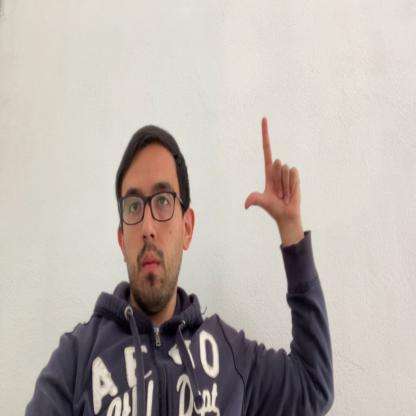L: (244, 116, 301, 225)
